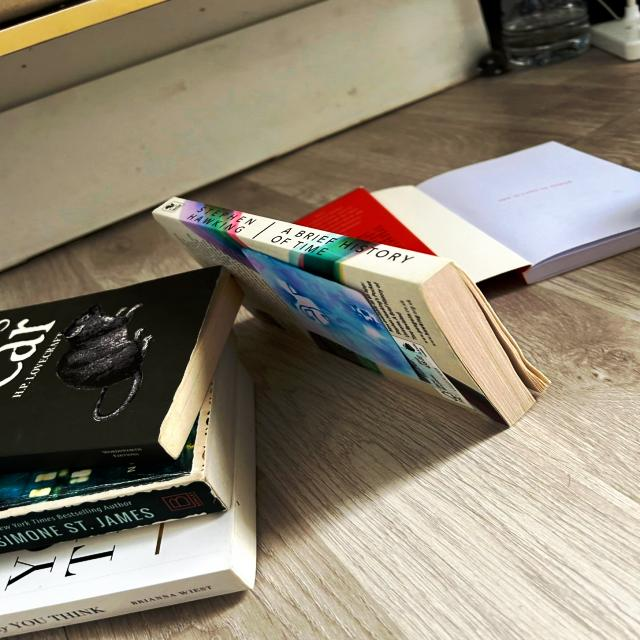Book: (154, 198, 548, 426), (0, 366, 256, 640), (0, 267, 241, 474), (0, 345, 241, 552), (296, 142, 639, 284)
